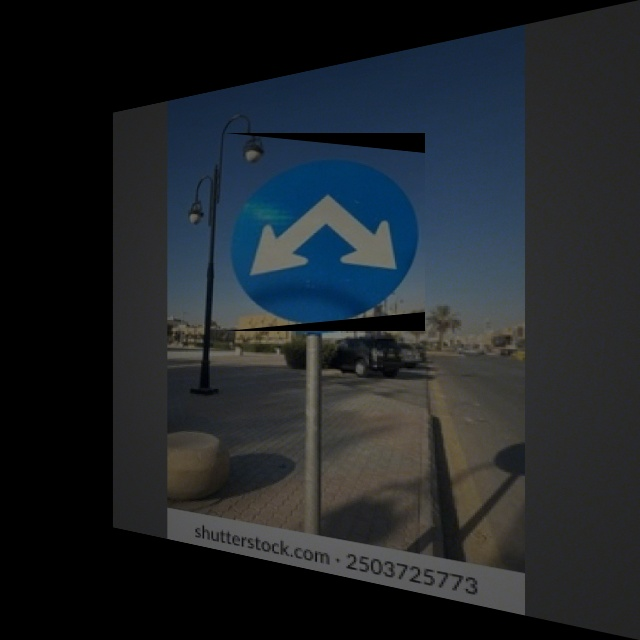Pass_Either_Side: (225, 133, 425, 331)
